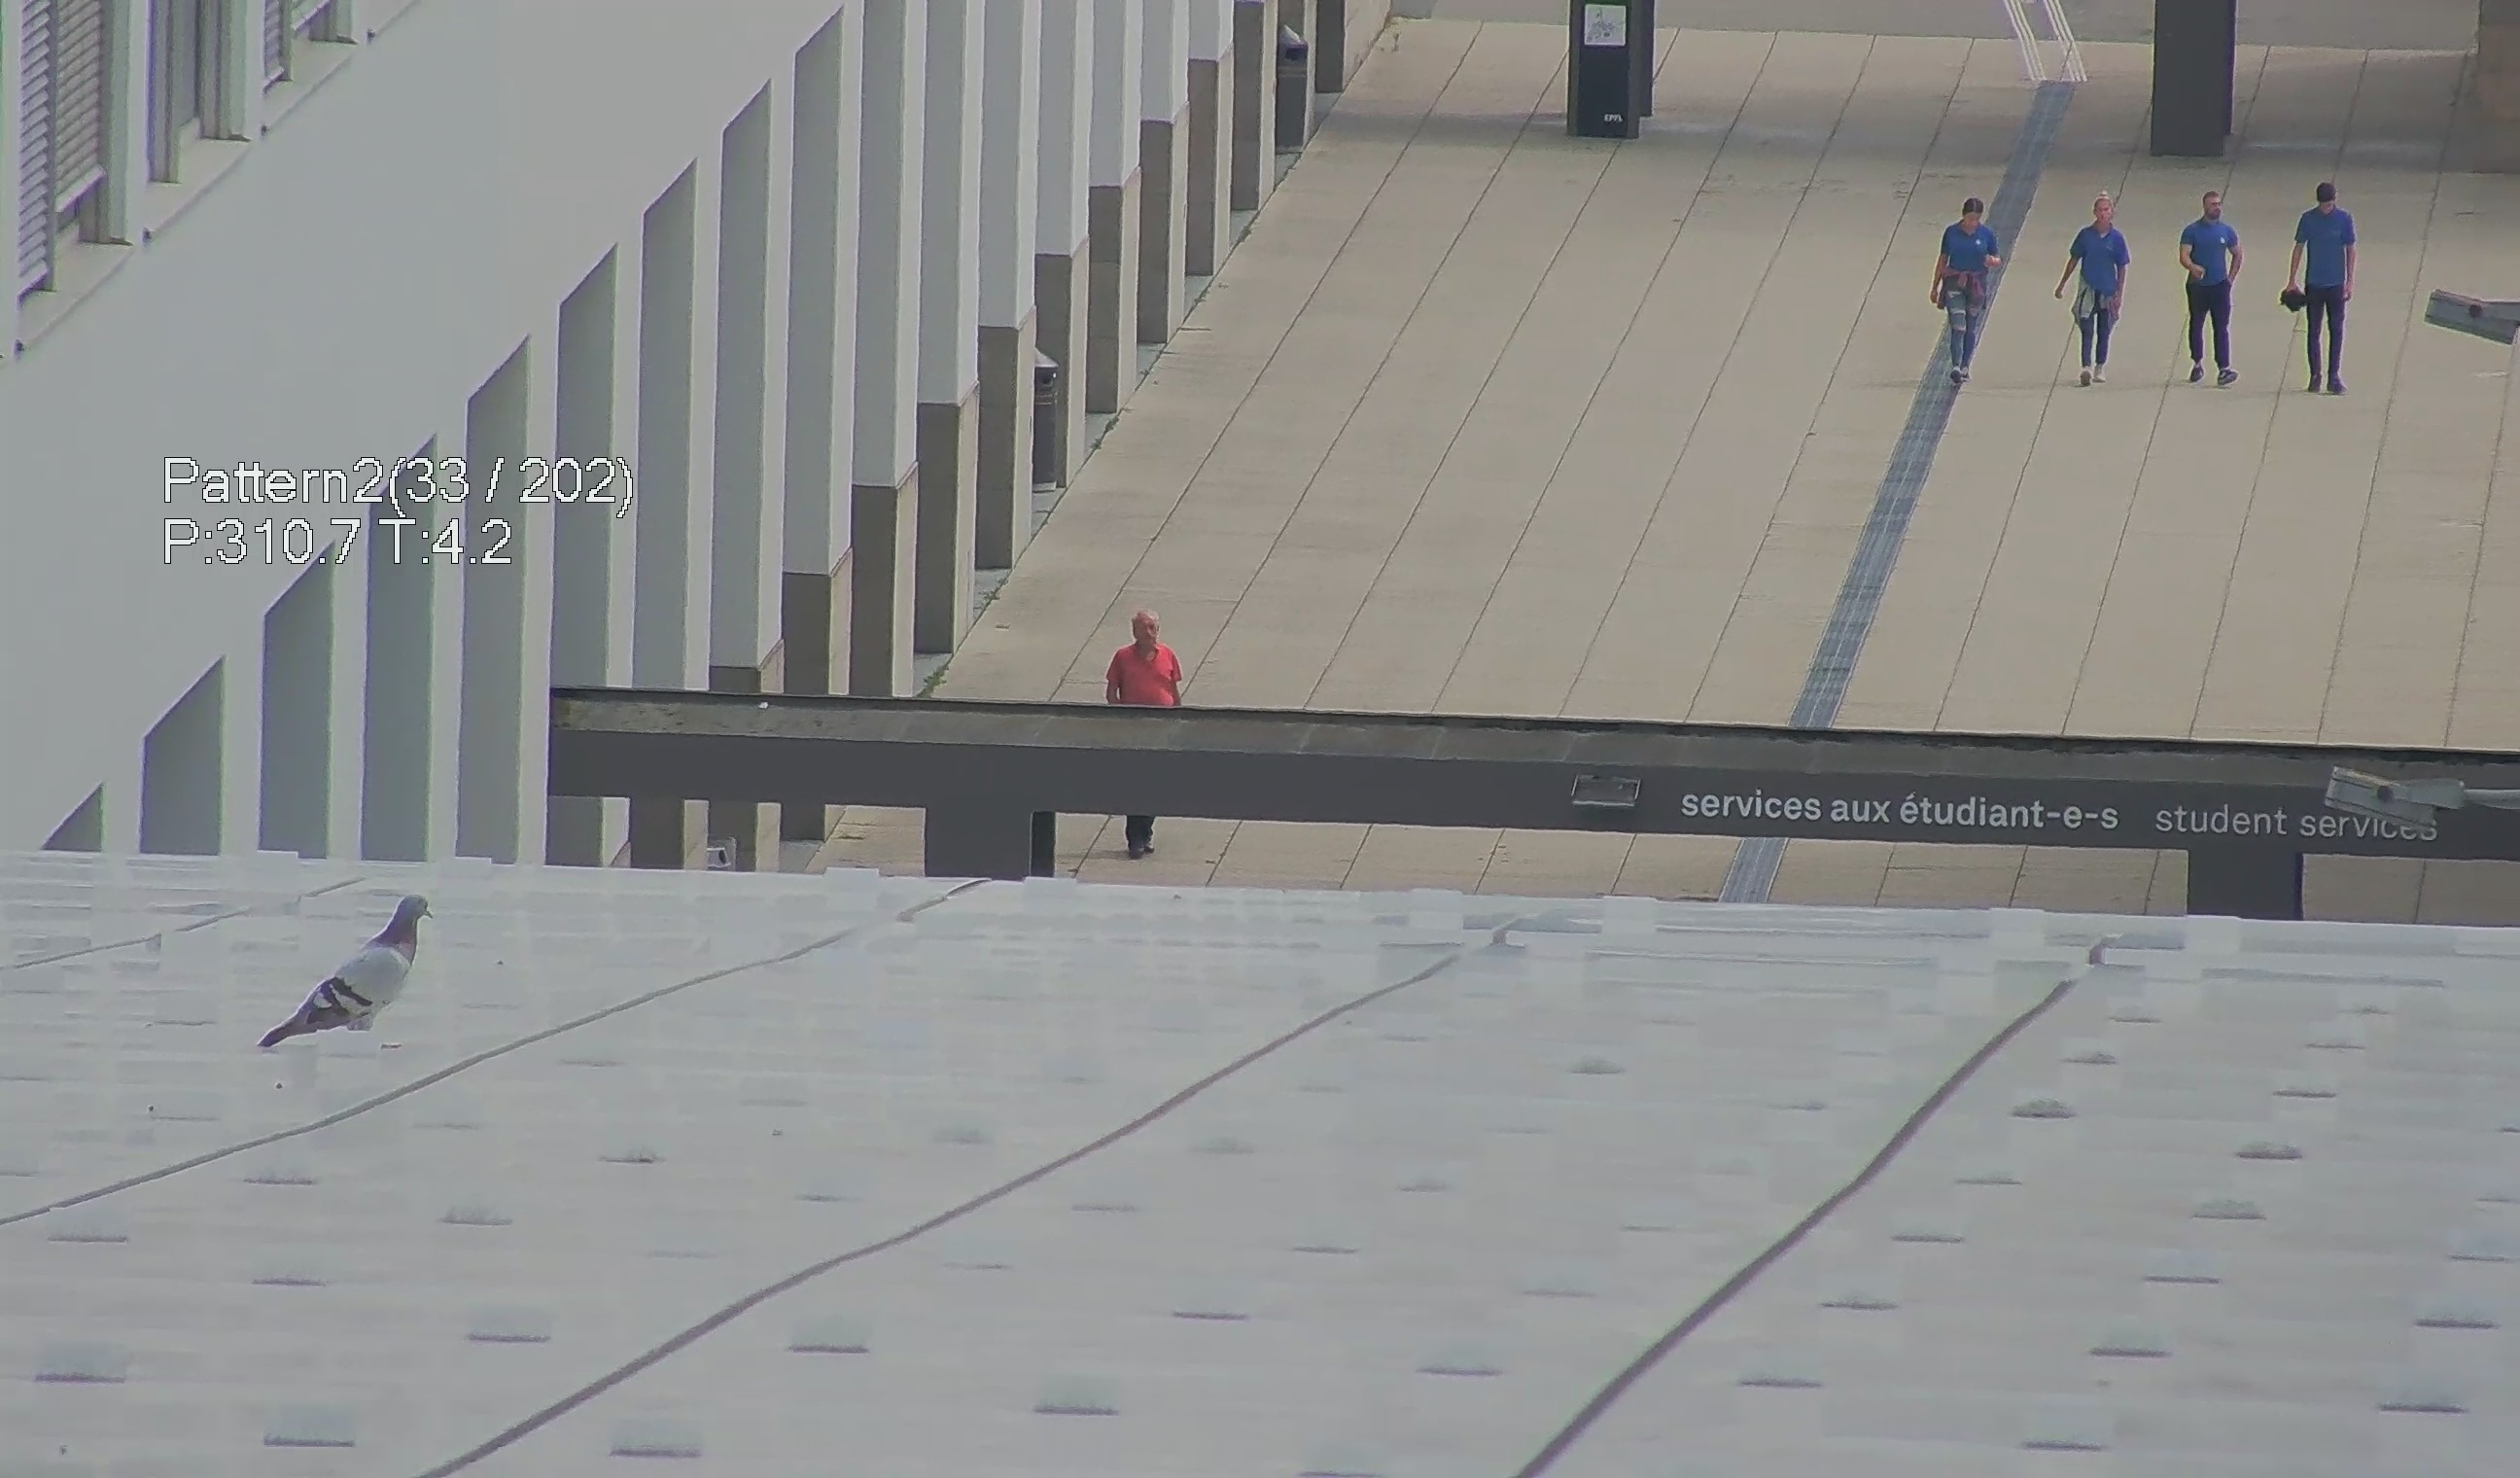Pigeon: (259, 887, 450, 1068)
